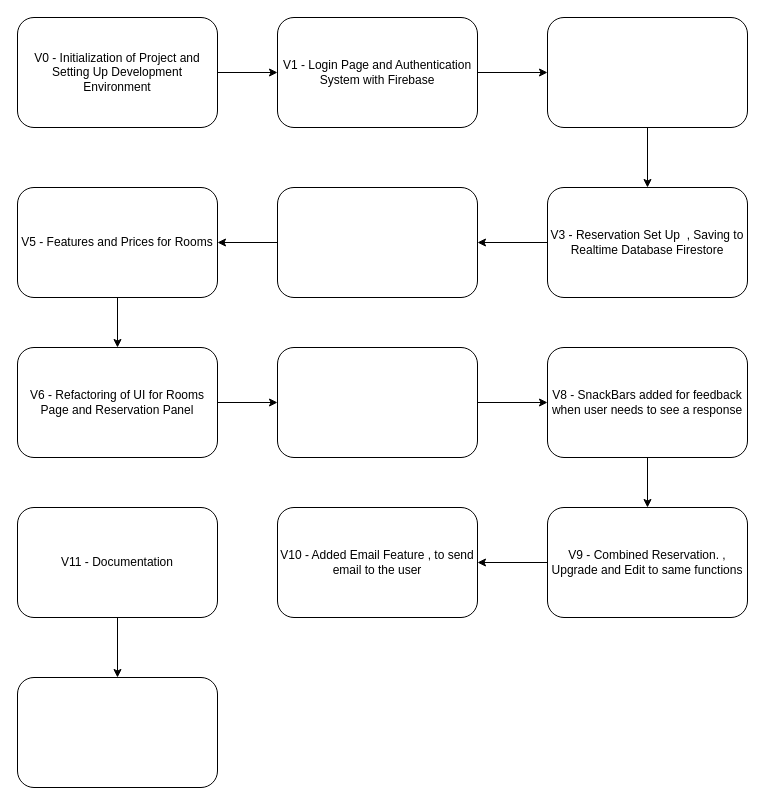
Some shapes in this 765 by 805 pixel diagram are drawn without their labels. The box of each missing label's shape, as (x1, y1, x2, y2) in pixels:
V12 - Final Build and Release for Android and iOS: (16, 676, 218, 788)
V2 - Multi Page App ( Reservation / Rooms / Settings): (546, 16, 748, 128)
V4 - Reservation Panel, Showing the user his reservation: (276, 186, 478, 298)
V7 - Modals Implementation for booking / rescheduling and upgrading: (276, 346, 478, 458)
